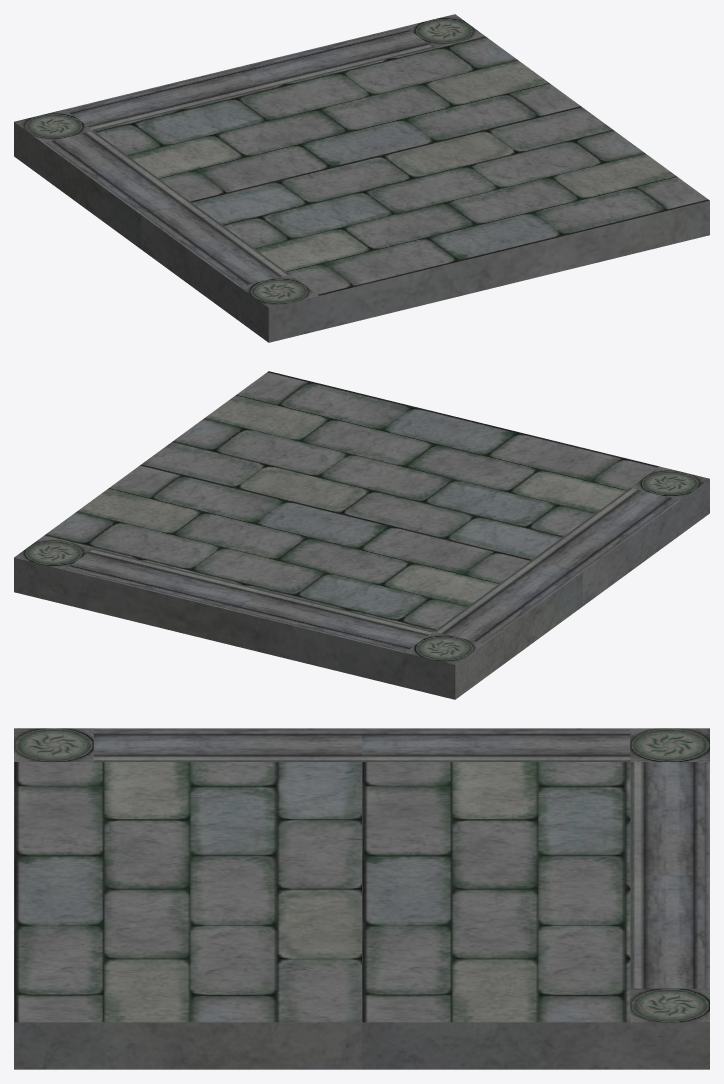
Rendered from floor_large_cornertrim_TL_01.glb.
3 views of the same model, one above another, from view 1: azimuth 30°, elevation 25°; view 2: azimuth 150°, elevation 25°; view 3: azimuth 270°, elevation 25° (orthographic). The views are drawn at different scales.
Visible parts, largest first — view 1: floor_large_cornertrim_TL_01; view 2: floor_large_cornertrim_TL_01; view 3: floor_large_cornertrim_TL_01.
Boxes of the visible parts, x1,y1,x2,y2 form: floor_large_cornertrim_TL_01: (14, 14, 709, 342); floor_large_cornertrim_TL_01: (14, 371, 709, 699); floor_large_cornertrim_TL_01: (14, 728, 709, 1069).
Size of the model in its own units: 4 by 0.3 by 4.
Materials: 1 (1 with a texture image).
